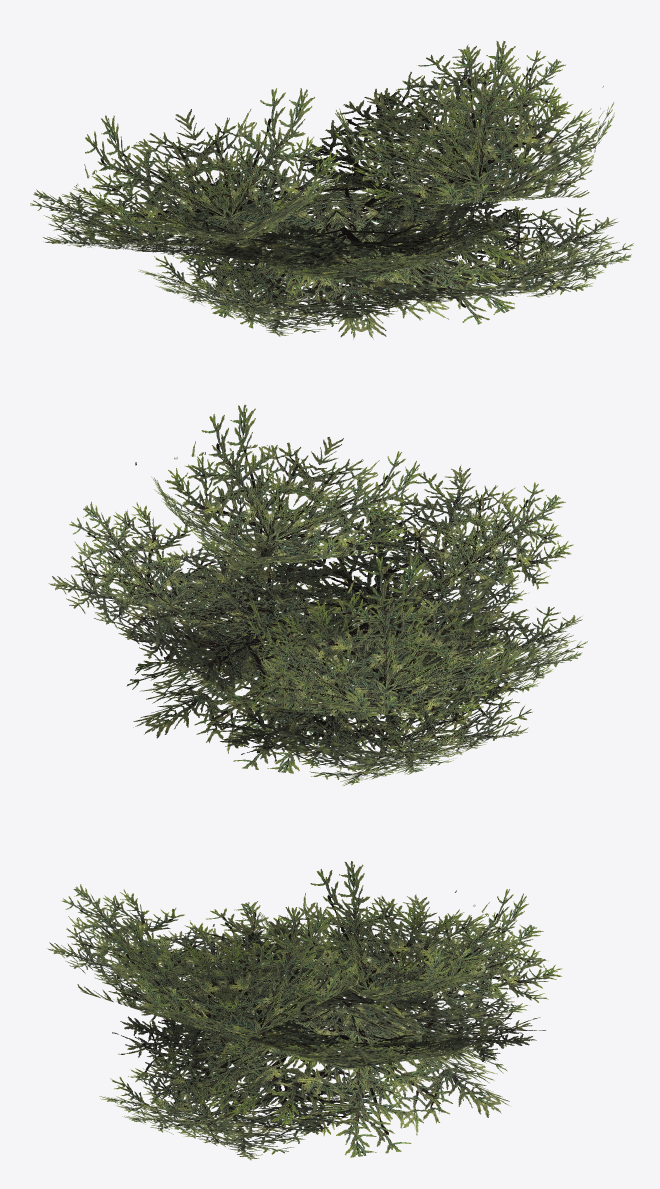
Rendered from flora_tree_bush_steppe_02_v3.glb.
3 views of the same model, one above another, from view 1: azimuth 30°, elevation 25°; view 2: azimuth 150°, elevation 25°; view 3: azimuth 270°, elevation 25° (orthographic). The views are drawn at different scales.
Visible parts, largest first — view 1: flora_tree_bush_steppe_02_v3_part0; view 2: flora_tree_bush_steppe_02_v3_part0; view 3: flora_tree_bush_steppe_02_v3_part0.
Boxes of the visible parts, x1=… form: flora_tree_bush_steppe_02_v3_part0: x1=30, y1=41, x2=633, y2=339; flora_tree_bush_steppe_02_v3_part0: x1=48, y1=404, x2=587, y2=786; flora_tree_bush_steppe_02_v3_part0: x1=47, y1=861, x2=562, y2=1160.
Bounding box in the file's own units: 7.94 × 2.61 × 7.93.
Materials: 1 (1 with a texture image).
